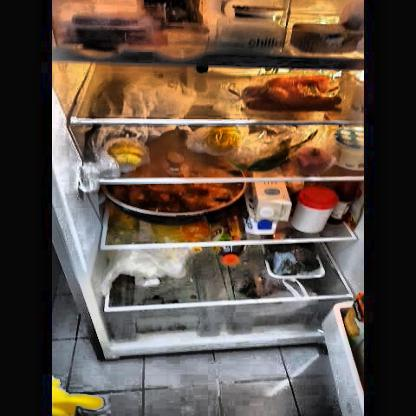broccoli: (271, 245, 322, 277)
butter: (292, 22, 361, 51)
carrot: (242, 78, 341, 109)
cheese: (212, 23, 285, 51)
green_chillies: (236, 146, 294, 170)
lemon: (107, 139, 148, 168), (205, 126, 242, 152)
milk: (245, 182, 290, 232), (197, 63, 293, 75)
salami: (70, 10, 153, 34)
tomato: (293, 145, 331, 173)
yoghurt: (332, 125, 365, 167), (235, 6, 288, 24)
